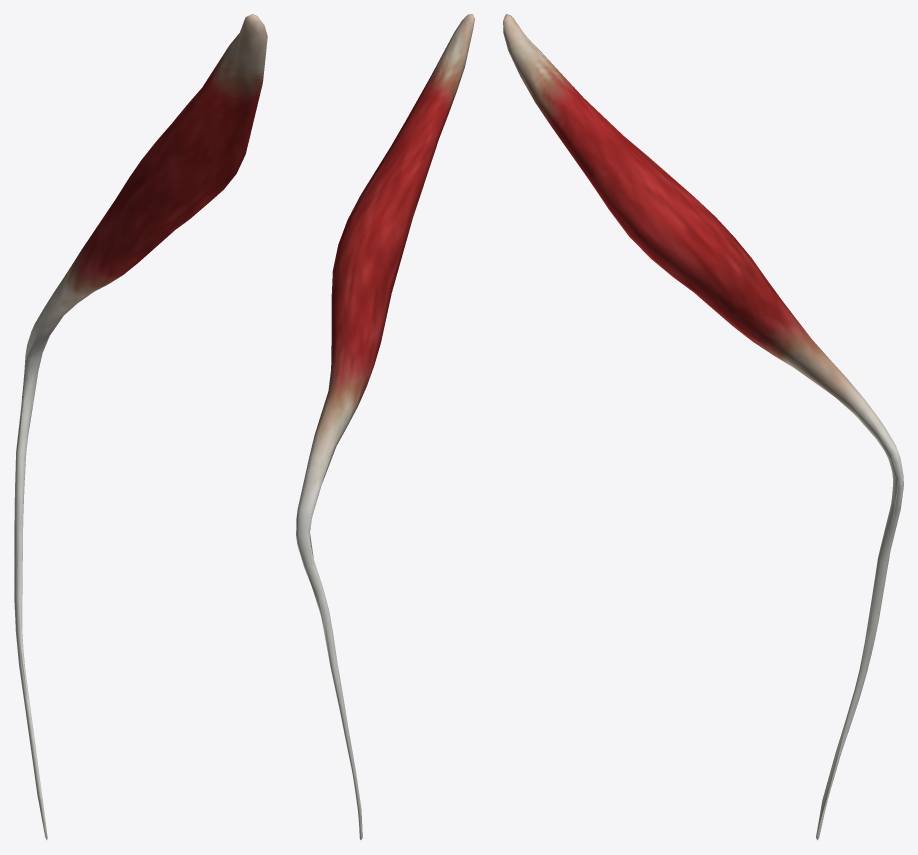
File: L Peroneus longus.fbx
3 views of the same model, side by side, from view 1: azimuth 30°, elevation 25°; view 2: azimuth 150°, elevation 25°; view 3: azimuth 270°, elevation 25° (orthographic). The views are drawn at different scales.
Visible parts, largest first — view 1: L Peroneus longus, L Peroneus longus low, L Peroneus longus high; view 2: L Peroneus longus, L Peroneus longus low, L Peroneus longus high; view 3: L Peroneus longus, L Peroneus longus low, L Peroneus longus high.
Boxes of the visible parts, x1,y1,x2,y2 form: L Peroneus longus: [14, 14, 267, 840]; L Peroneus longus low: [14, 17, 267, 839]; L Peroneus longus high: [15, 21, 265, 830]; L Peroneus longus: [296, 14, 474, 840]; L Peroneus longus low: [297, 25, 473, 810]; L Peroneus longus high: [302, 29, 470, 832]; L Peroneus longus: [503, 14, 903, 840]; L Peroneus longus low: [503, 16, 902, 839]; L Peroneus longus high: [506, 24, 896, 825].
Size of the model in its own units: 1.55 by 13.7 by 5.93.
